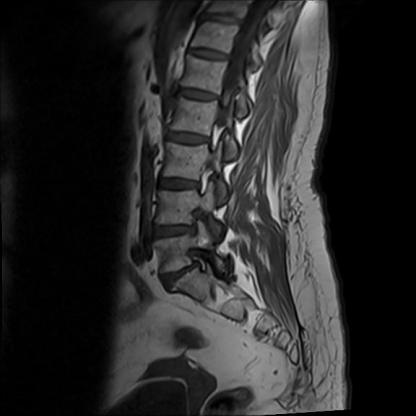Disc Bulgerotation: (159, 257, 204, 291), (150, 223, 199, 241)
